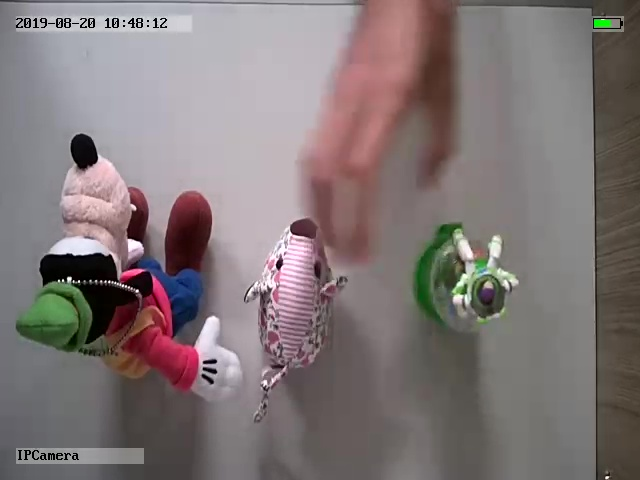buzz: (410, 222, 522, 339)
goofy: (13, 131, 246, 406)
pig: (244, 216, 351, 425)
